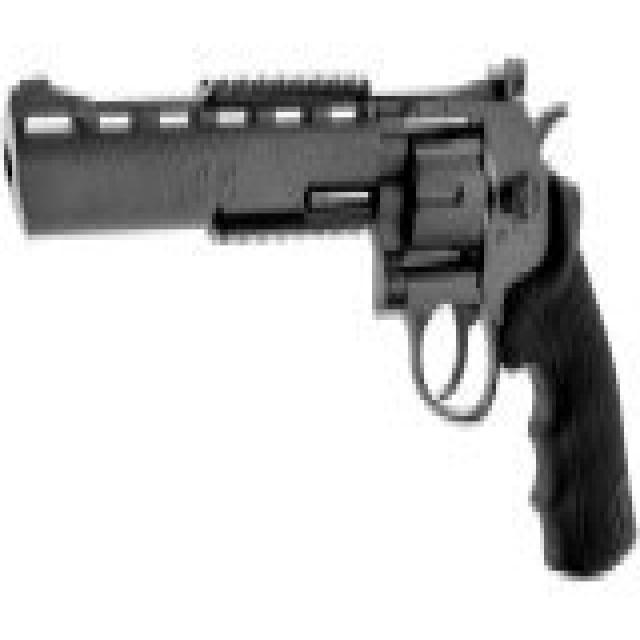Gun: (9, 32, 631, 566)
